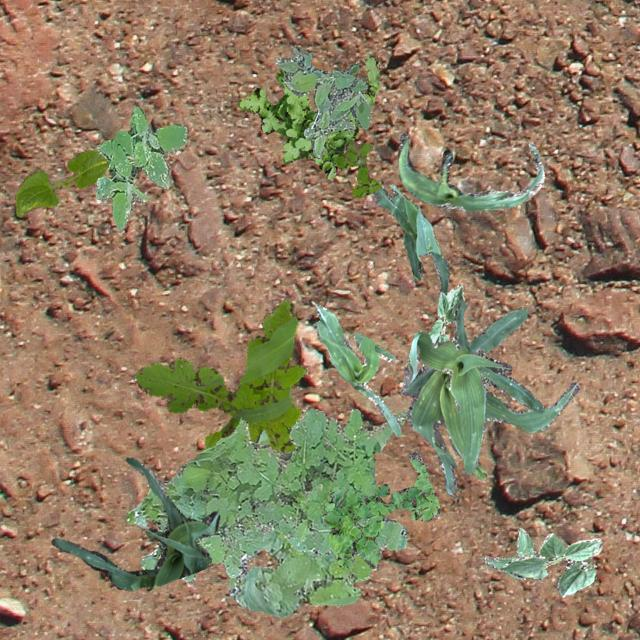crop: (398, 306, 578, 498), (402, 300, 544, 473), (50, 456, 218, 590), (396, 130, 544, 210), (314, 304, 400, 436), (371, 182, 449, 292), (13, 148, 108, 216), (500, 532, 600, 596), (482, 526, 534, 580), (428, 284, 463, 342)
weed: (125, 408, 406, 580), (228, 420, 380, 616), (134, 300, 306, 452), (236, 54, 380, 178), (320, 450, 440, 568), (94, 106, 186, 230), (274, 44, 370, 158), (334, 140, 381, 197)
